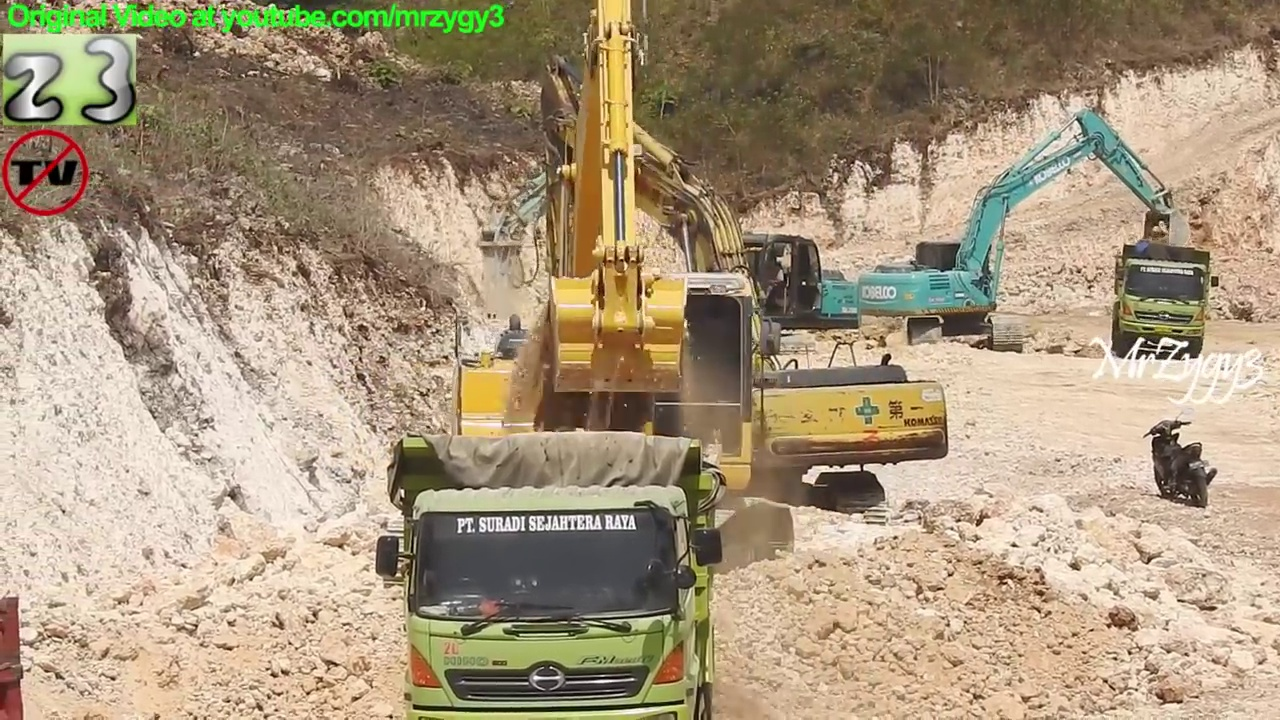excavator: (374, 1, 805, 600), (515, 48, 960, 543), (467, 126, 865, 367), (854, 100, 1202, 358)
truck: (369, 423, 734, 720), (1106, 238, 1222, 365), (1, 590, 29, 720)
